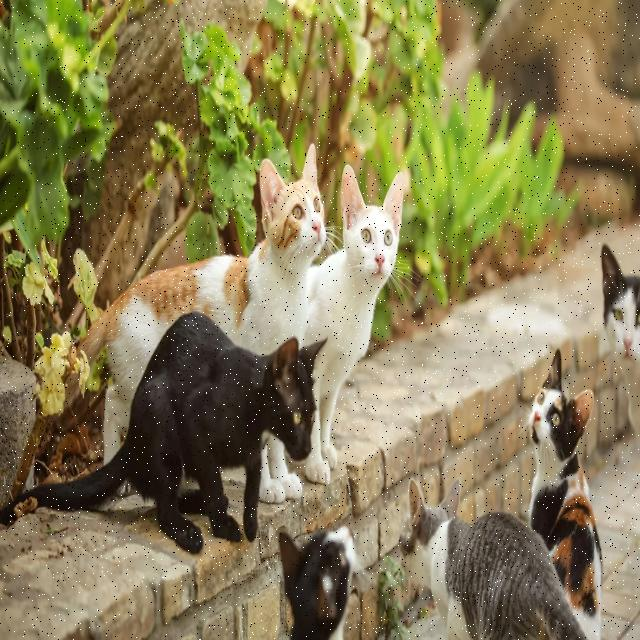cat: (81, 144, 326, 461), (25, 313, 324, 552), (305, 164, 404, 483), (400, 480, 585, 640), (529, 349, 602, 639), (280, 527, 360, 640), (601, 244, 640, 445), (260, 438, 301, 502)
